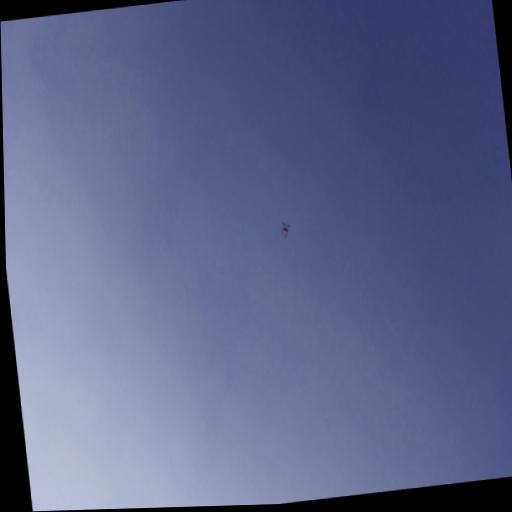drones: (280, 220, 292, 242)
